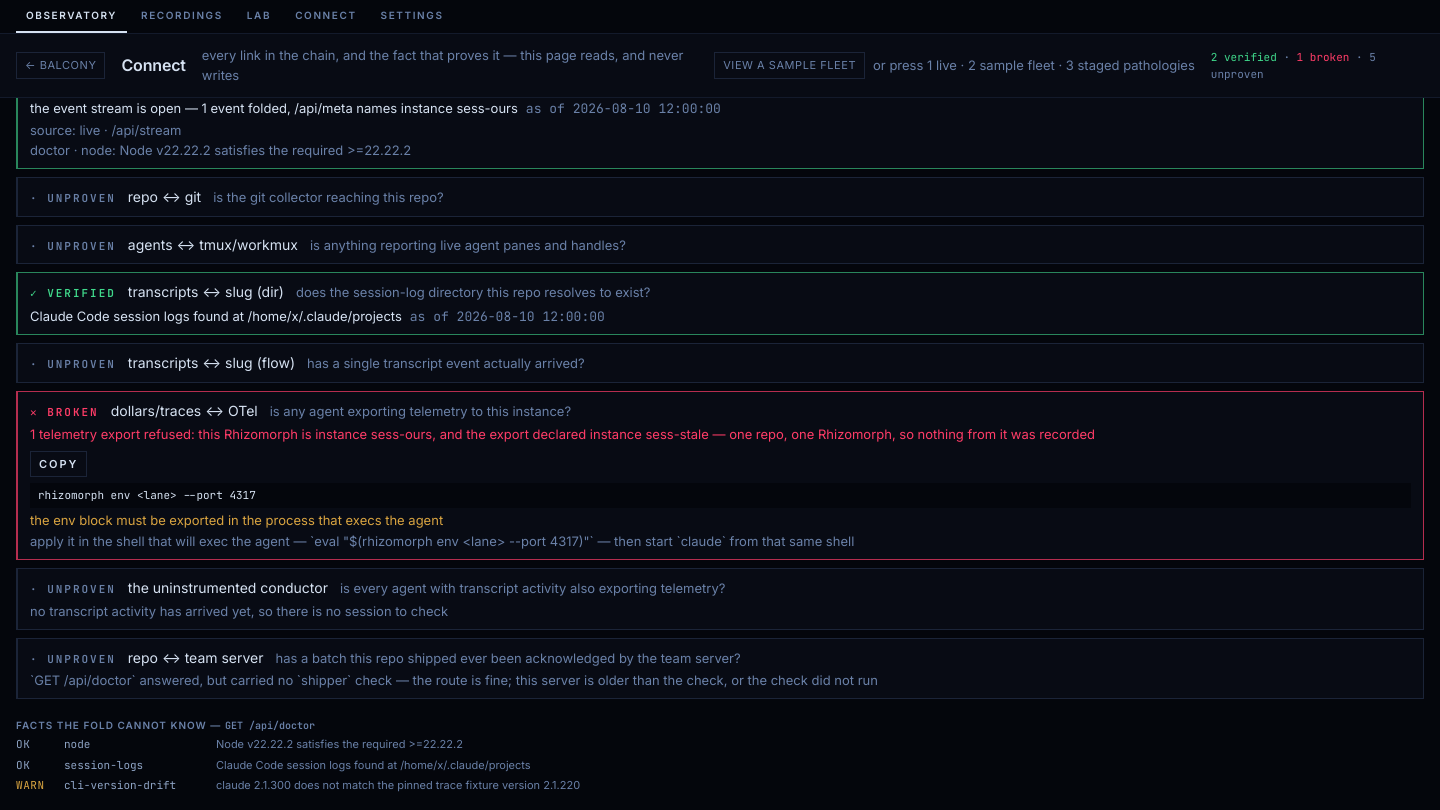
it: the page's only action › copies the exact command it shows
(page scrolled)
Click the button with test id "connect-copy-otel".
click(59, 464)  # box x1=30 y1=450 x2=87 y2=477
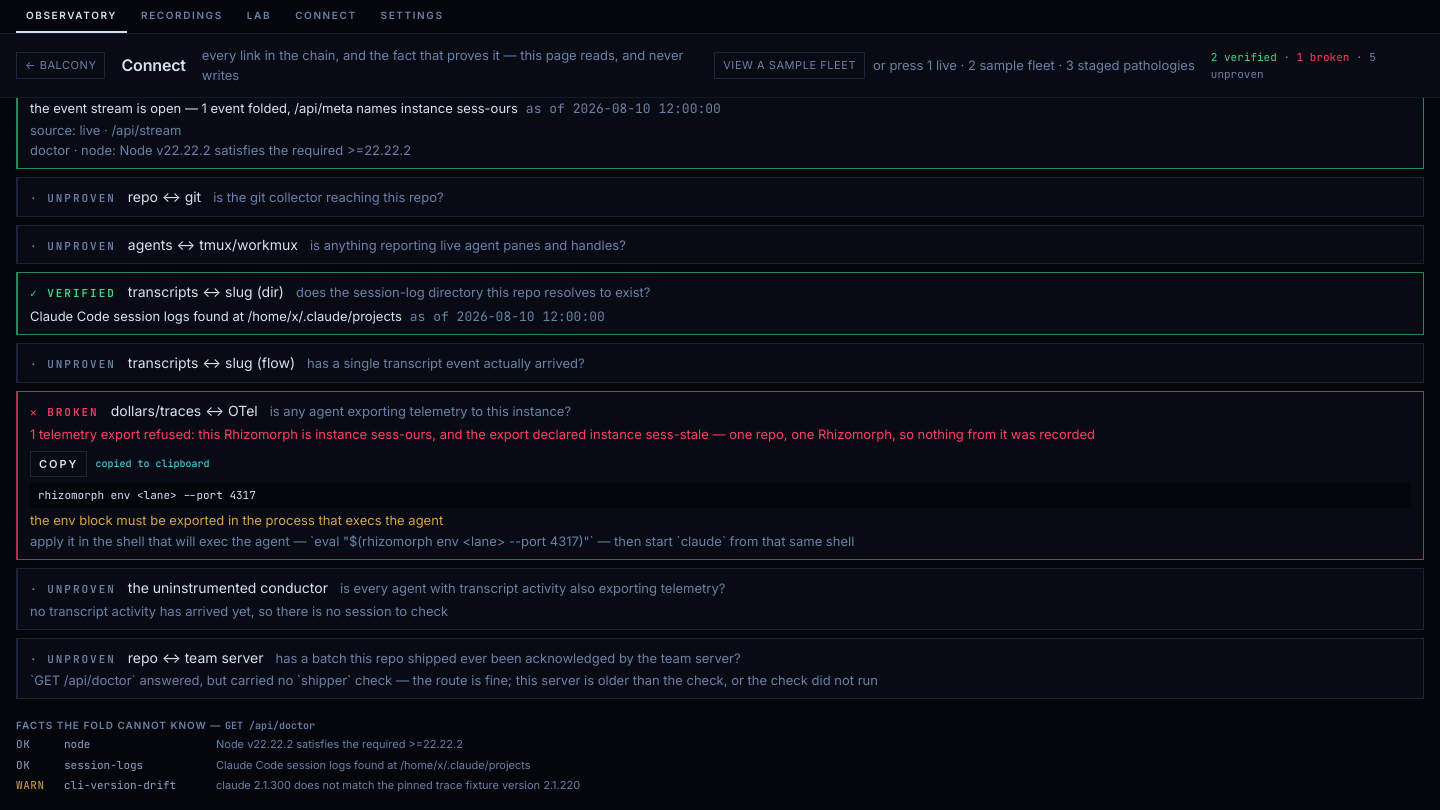
Check: the message reads "copied to clipboard", box x1=95 y1=457 x2=209 y2=470
